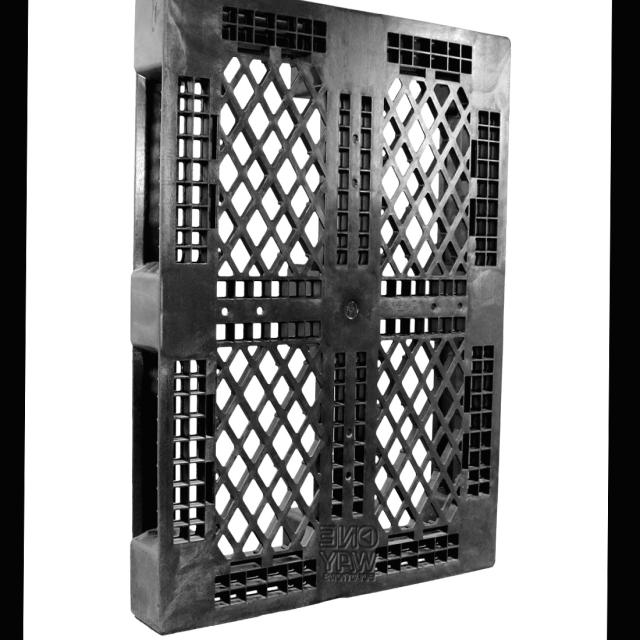non-igps: (118, 0, 527, 640)
